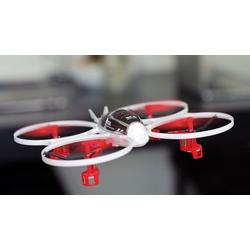drone: (13, 99, 235, 188)
